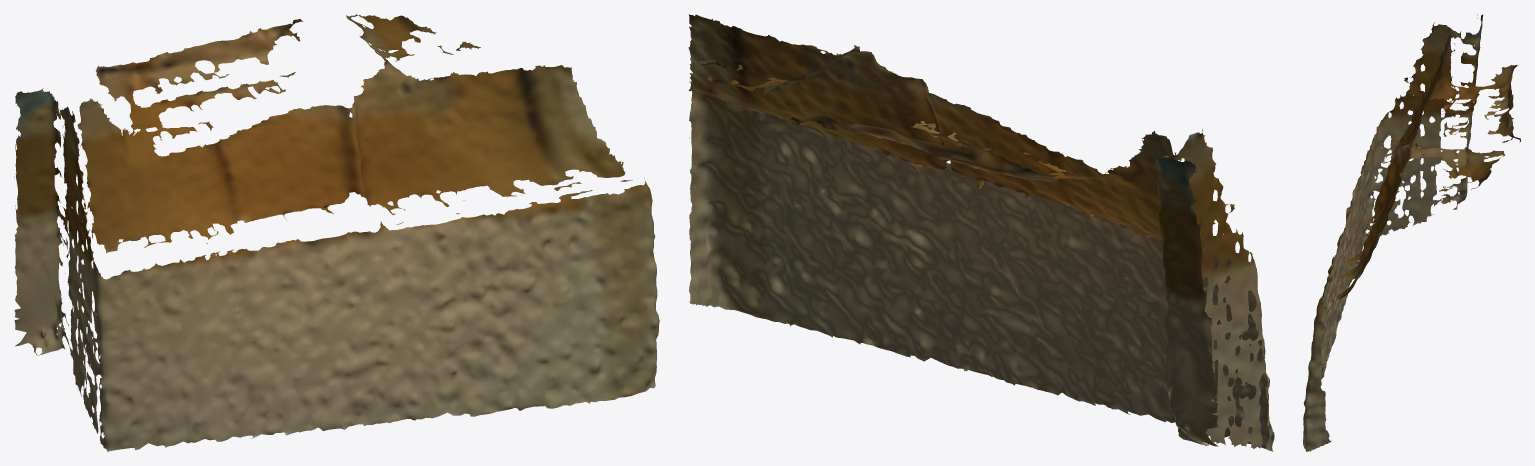
File: color_model_f007_20260205_111613.obj
3 renders of one model, left to right at view 1: azimuth 30°, elevation 25°; view 2: azimuth 150°, elevation 25°; view 3: azimuth 270°, elevation 25°, orthographic. The views are drawn at different scales.
Bounding box in the file's own units: 1.84 × 1.09 × 0.8607.
